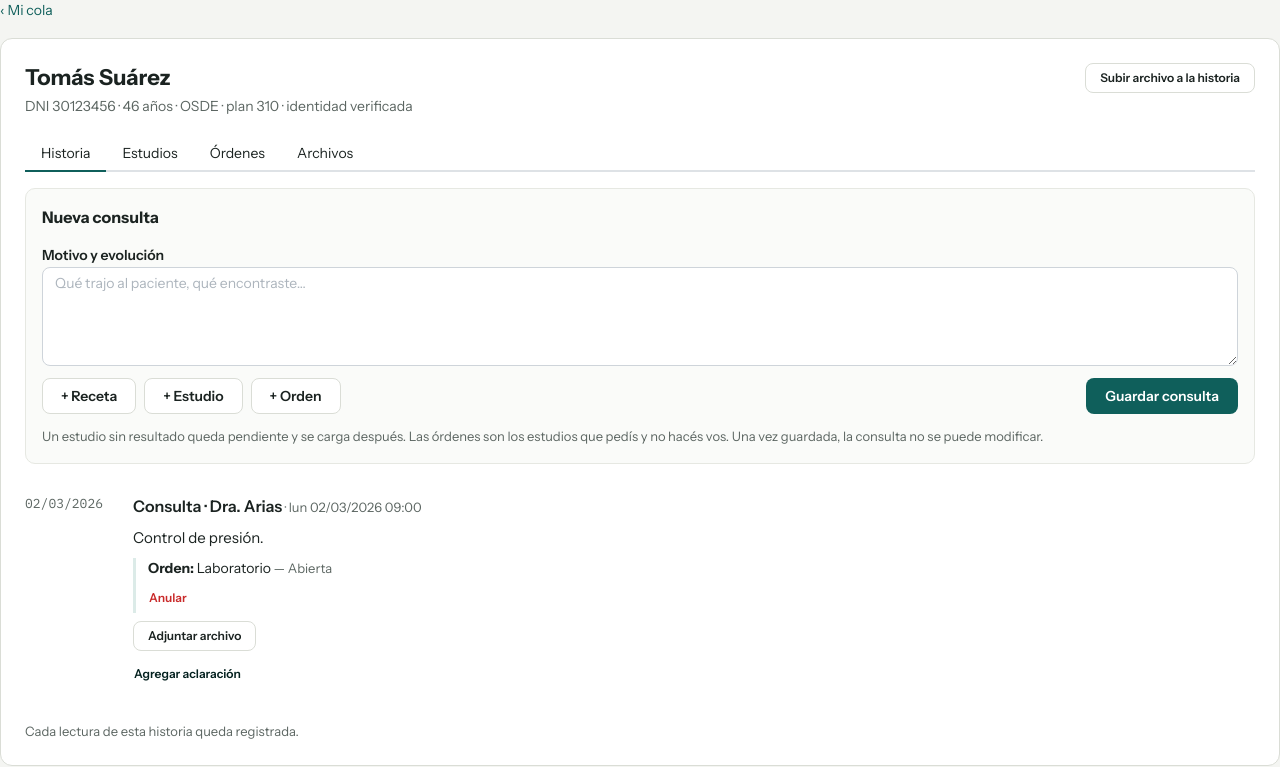
Test case: the record of a patient › sends the consultation with its rows, and keeps what was typed when it is refused
Type "Control" into the text box labelled "Motivo y evolución". click: (640, 317)
box: [42,267,1238,366]
Click the button "+ Receta". click: (89, 396)
box: [42,378,136,414]
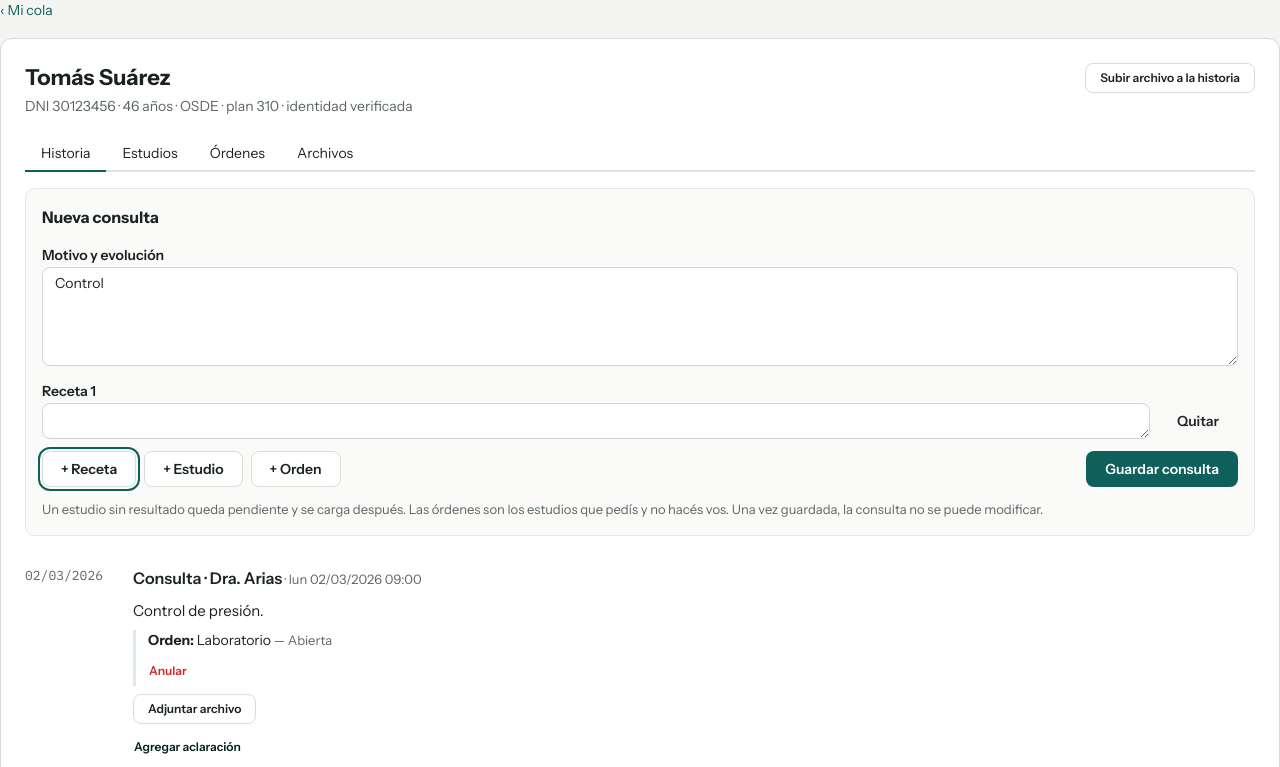
Type "enalapril 10 mg" into the text box labelled "Receta 1". click: (596, 421)
box: [42,403,1150,439]
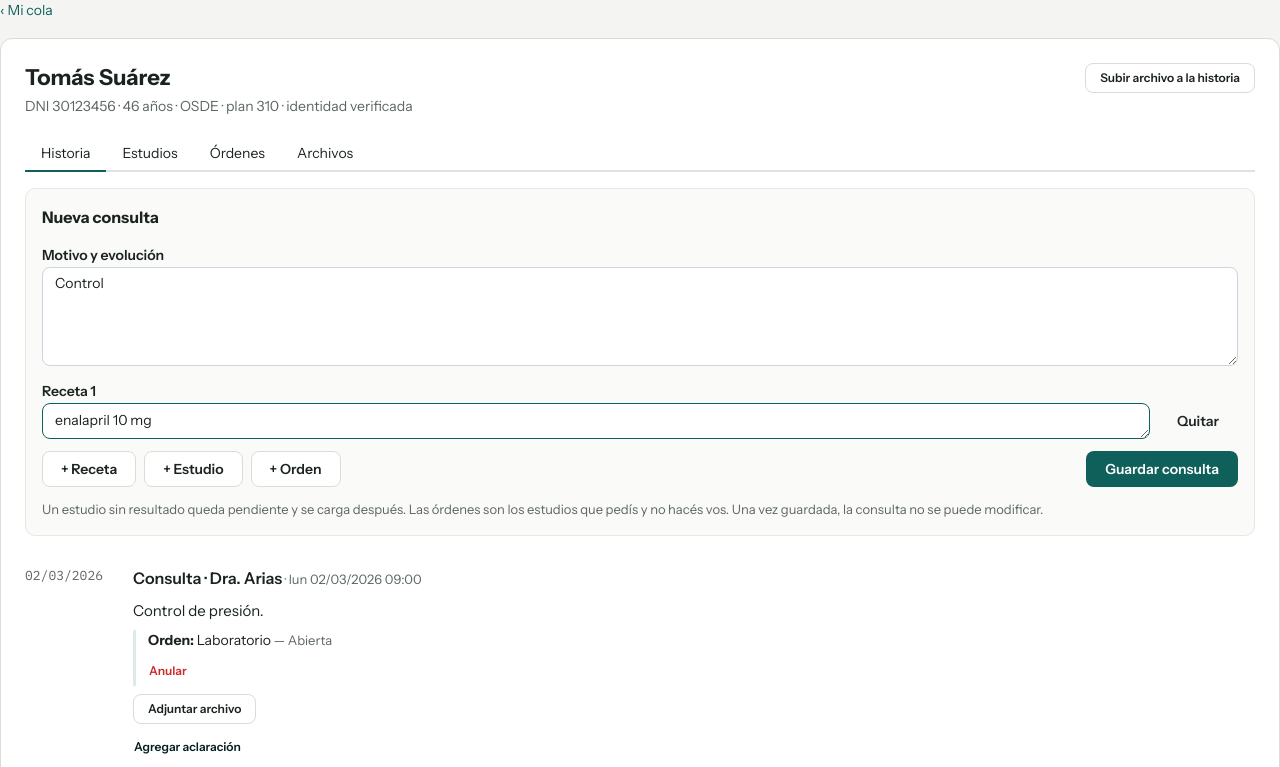
Click the button "+ Orden". click: (296, 469)
box: [251,451,341,487]
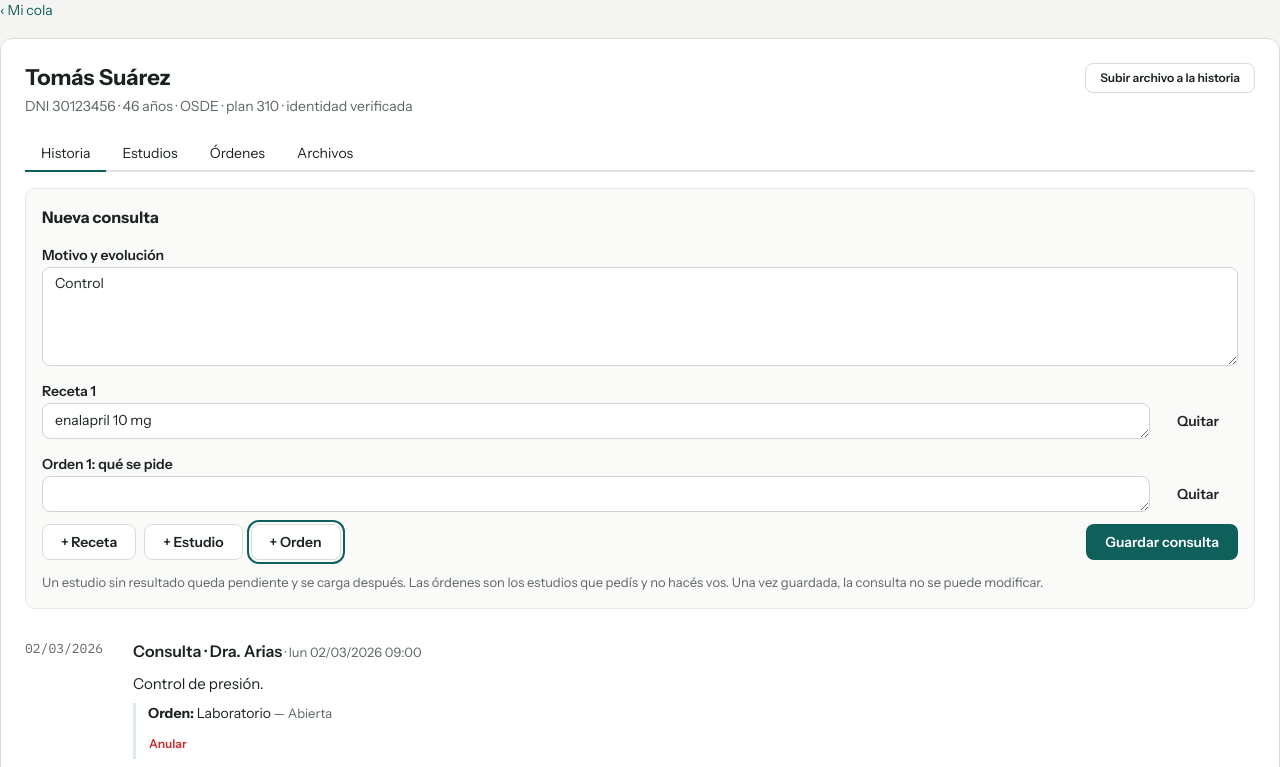
Type "Ecografía" into the text box labelled "Orden 1: qué se pide". click: (596, 494)
box: [42,476,1150,512]
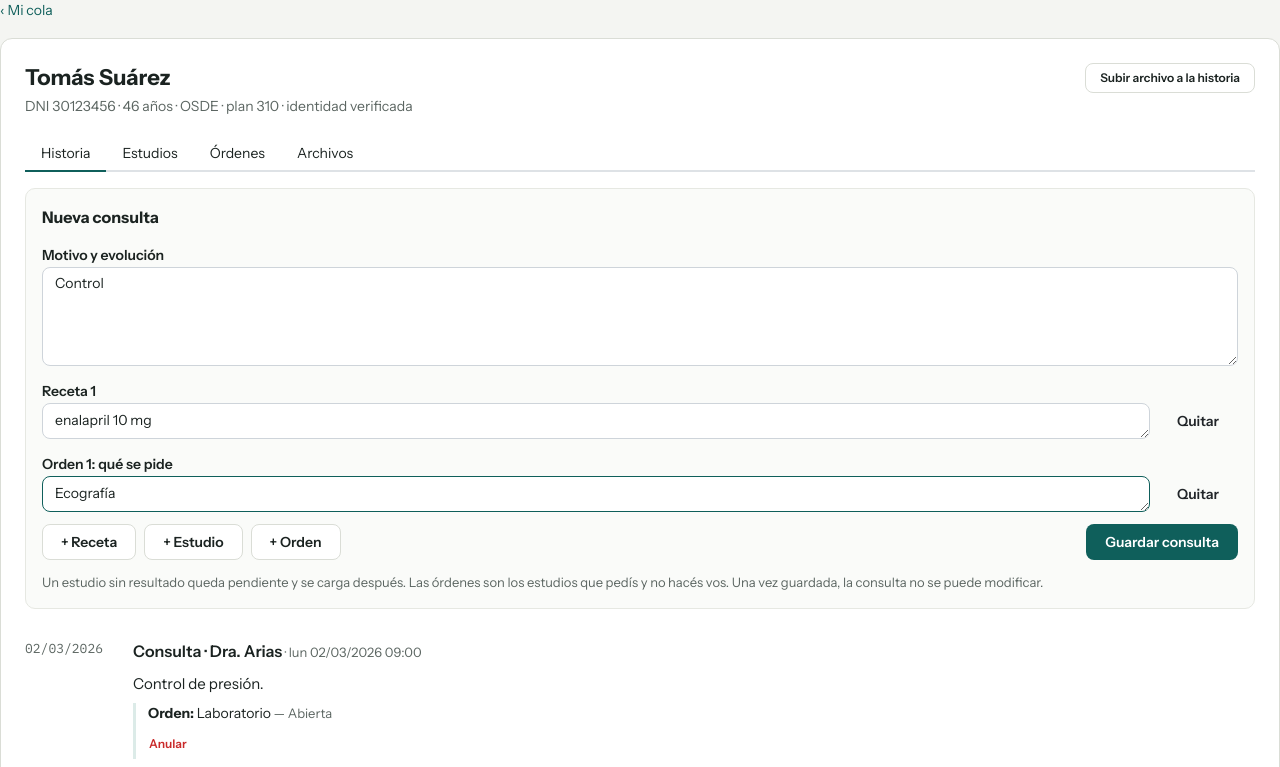
Click the button "Guardar consulta". click: (1162, 542)
box: [1086,524,1238,560]
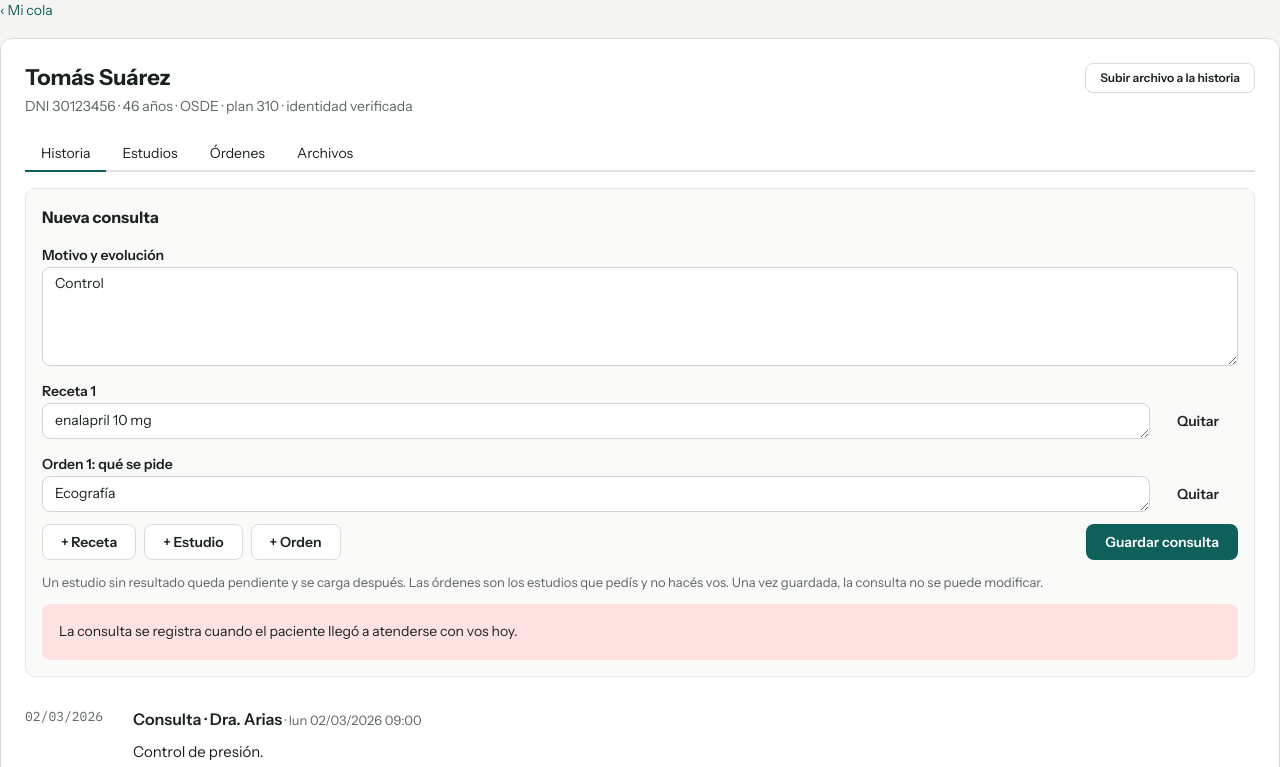
Expected: the text "La consulta se registra cuando el paciente llegó a atenderse con vos hoy." is shown, [59,622,518,640]
Click the button "Guardar consulta". click: (1162, 542)
box: [1086,524,1238,560]
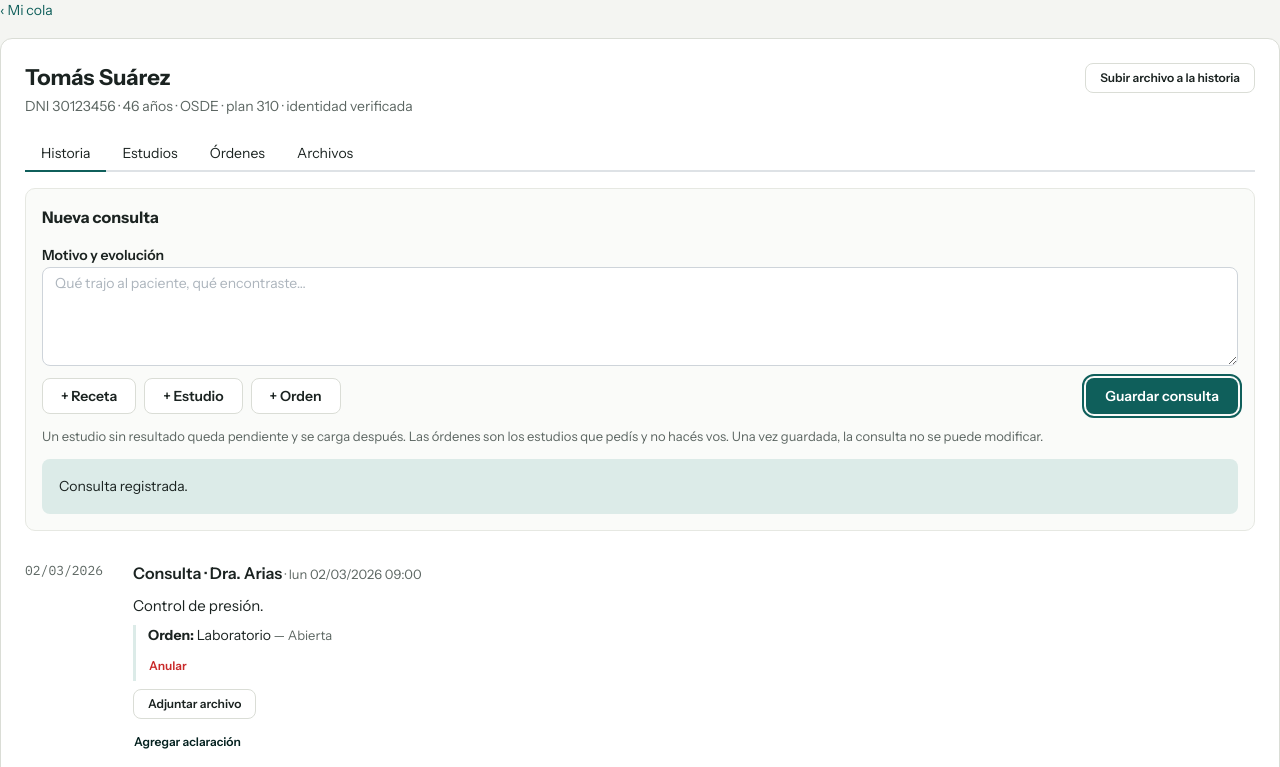
Expected: the text "Consulta registrada." is shown, [59,476,188,494]
Expected: the text box labelled "Motivo y evolución" is empty, [42,267,1238,366]
